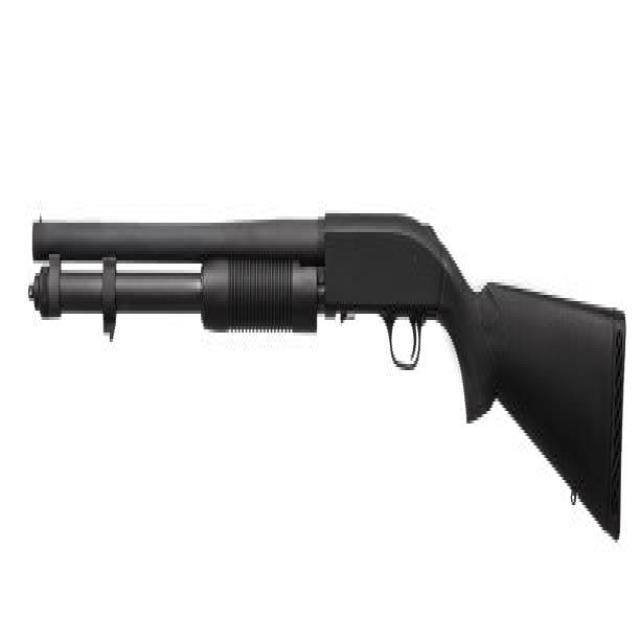rifle: (26, 176, 629, 566)
